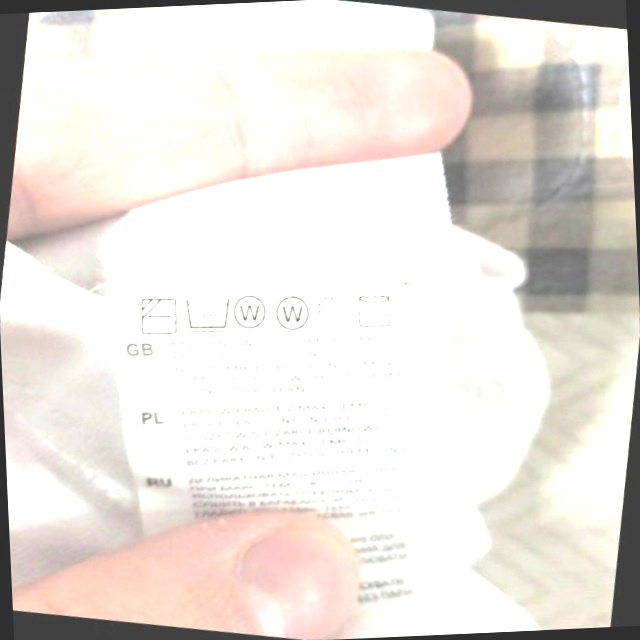95C: (178, 288, 238, 341)
dry_flat_in_shade: (132, 289, 184, 343)
line_dry: (350, 285, 401, 335)
shade_dry: (310, 288, 360, 339)
wet_clean: (269, 289, 317, 339), (228, 285, 275, 336)
